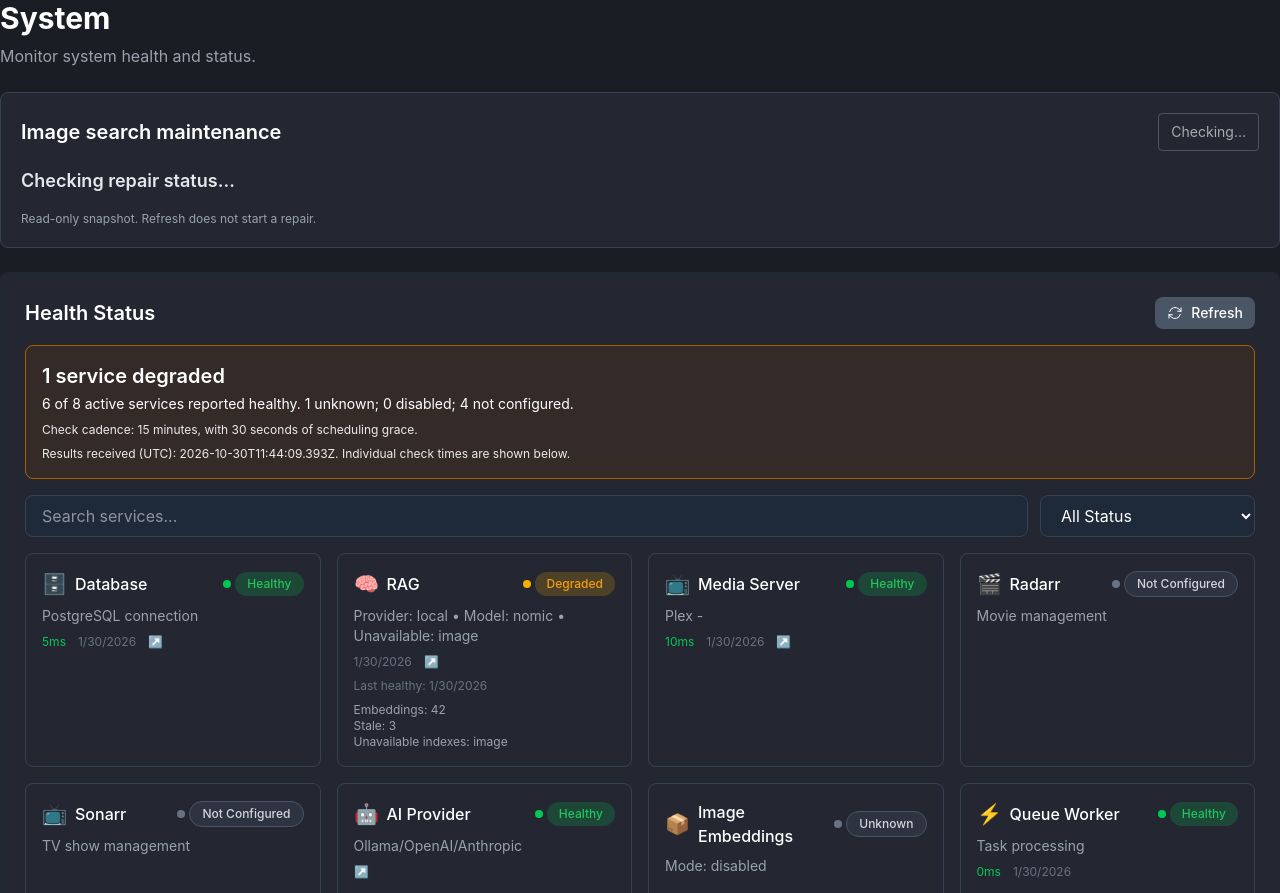
Test case: System.vue › does not silently fall back to cached health after a forced refresh fails
The width and height of the screenshot is (1280, 893).
Step 1. Click the button "Refresh" → (1205, 313), box x1=1155 y1=297 x2=1255 y2=329
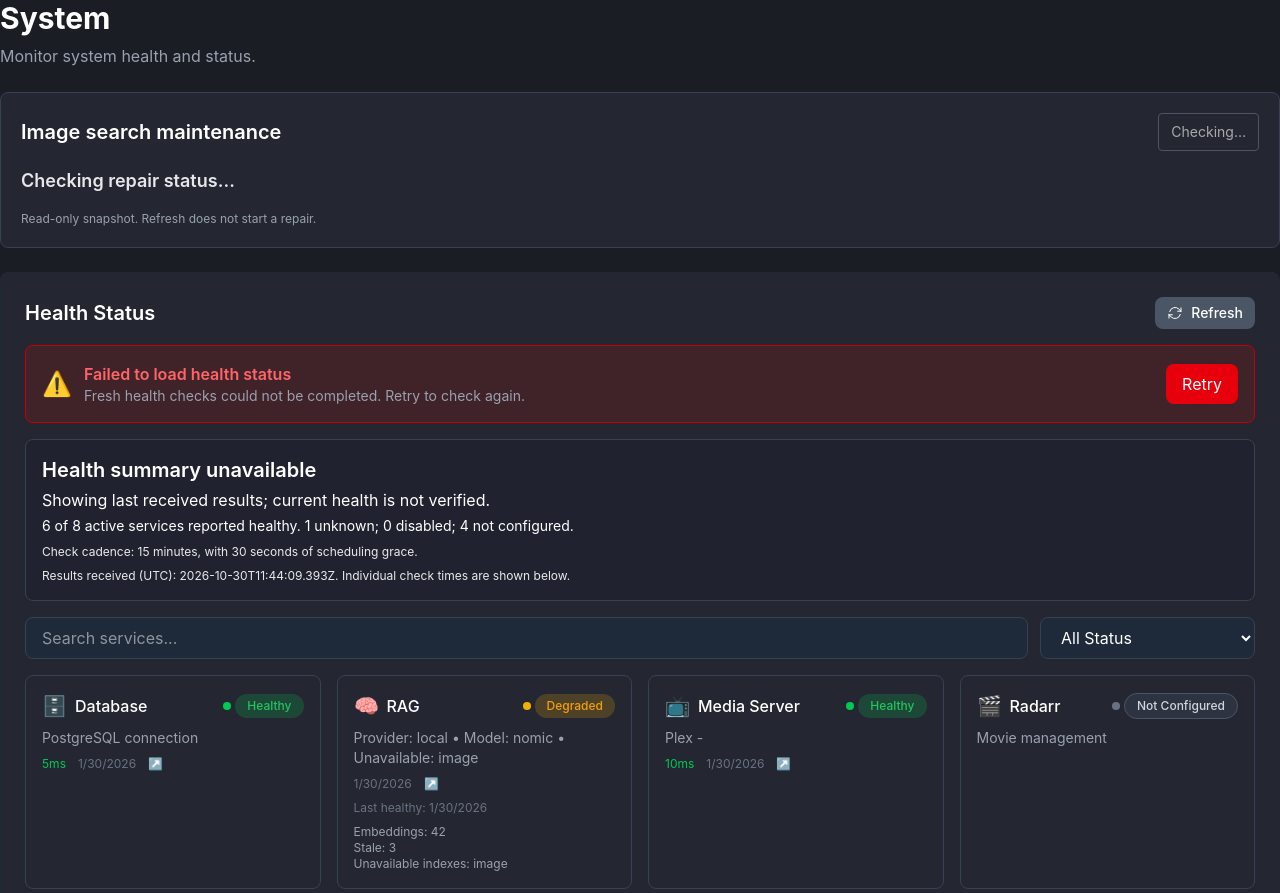
Result: the text "Fresh health checks could not be completed" is shown at x1=84 y1=387 x2=525 y2=404
Result: the element with test id "system-health-summary" shows "Health summary unavailable" at x1=42 y1=458 x2=316 y2=482
